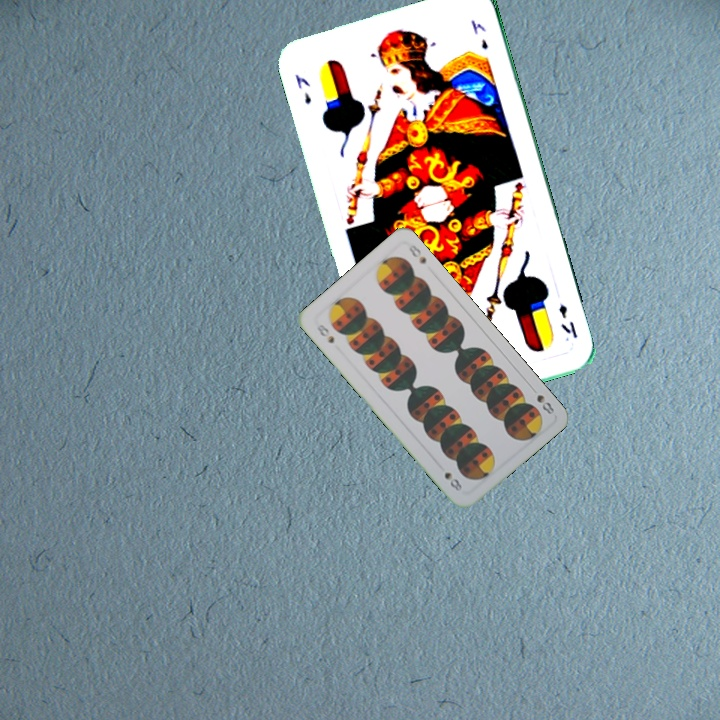EK: (554, 300, 581, 341), (291, 70, 314, 107)
S8: (526, 382, 557, 417), (312, 320, 337, 346)
